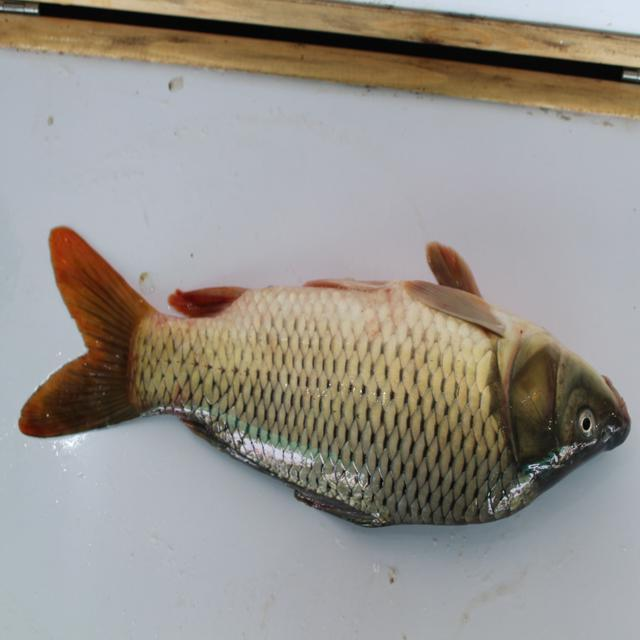CommonCarp: (38, 212, 637, 550)
